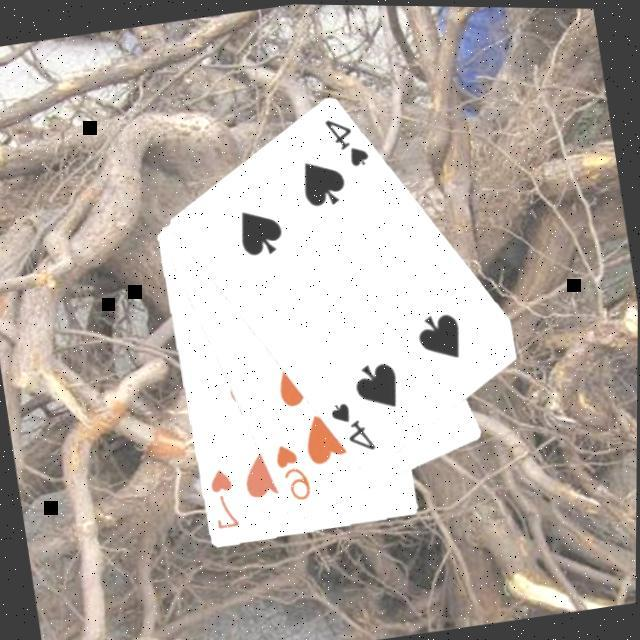4S: (327, 392, 382, 458), (322, 108, 376, 174)
7H: (206, 462, 245, 532)
9H: (272, 436, 318, 506)
